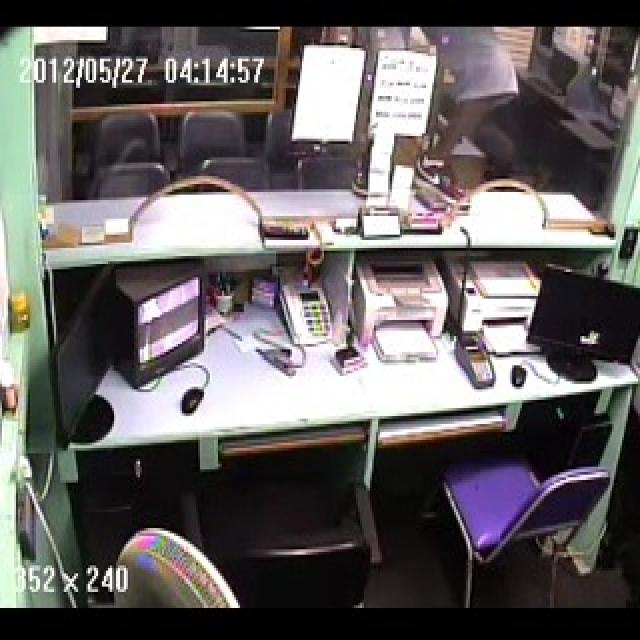thief: (402, 20, 509, 192)
